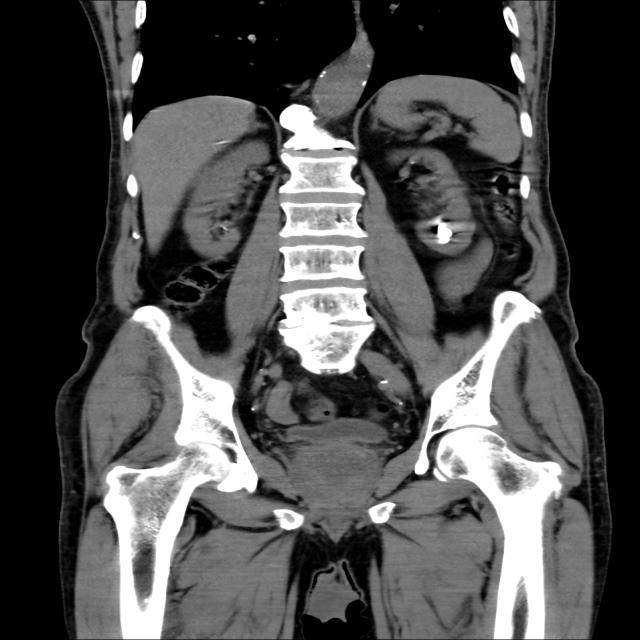kidneystone: (432, 221, 453, 243)
